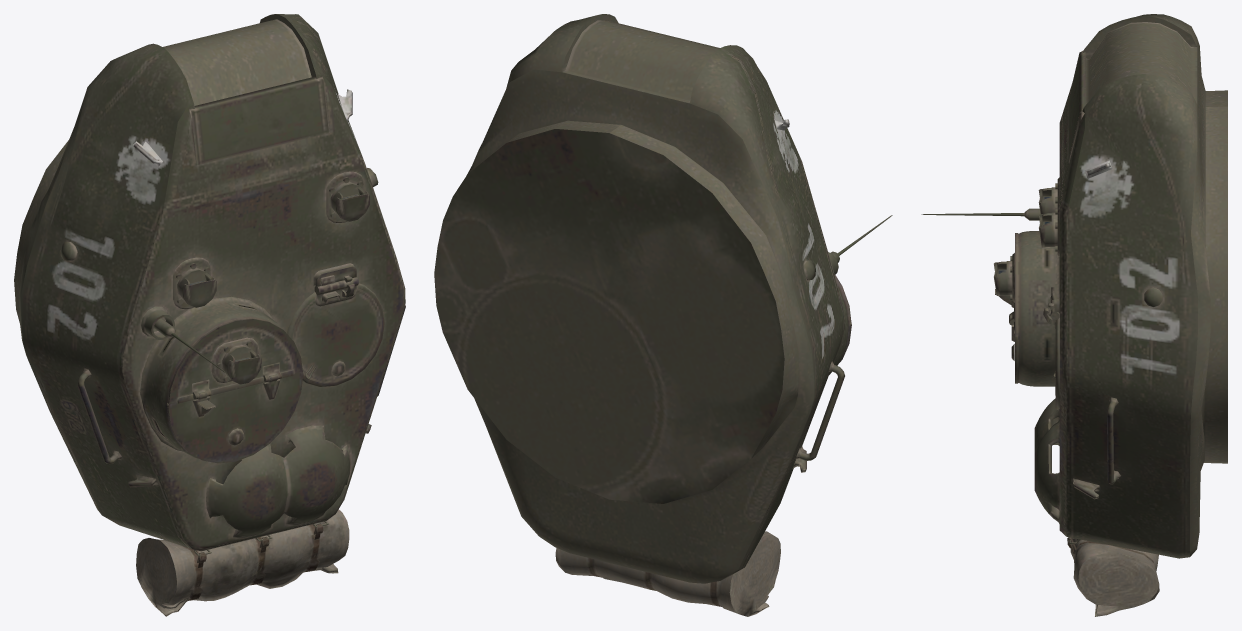
Rendered from Turret_01.glb.
3 renders of one model, left to right at view 1: azimuth 30°, elevation 25°; view 2: azimuth 150°, elevation 25°; view 3: azimuth 270°, elevation 25°, orthographic. The views are drawn at different scales.
Parts seen in each view (by area): view 1: set_0_group_0; view 2: set_0_group_0; view 3: set_0_group_0.
Part boxes in pixels (box(x1,y1,x2,y2)): set_0_group_0: box(14, 14, 405, 616); set_0_group_0: box(434, 14, 892, 616); set_0_group_0: box(921, 14, 1227, 616).
Bounding box in the file's own units: 2.06 × 3.02 × 1.58.
1 material, 1 textured.
